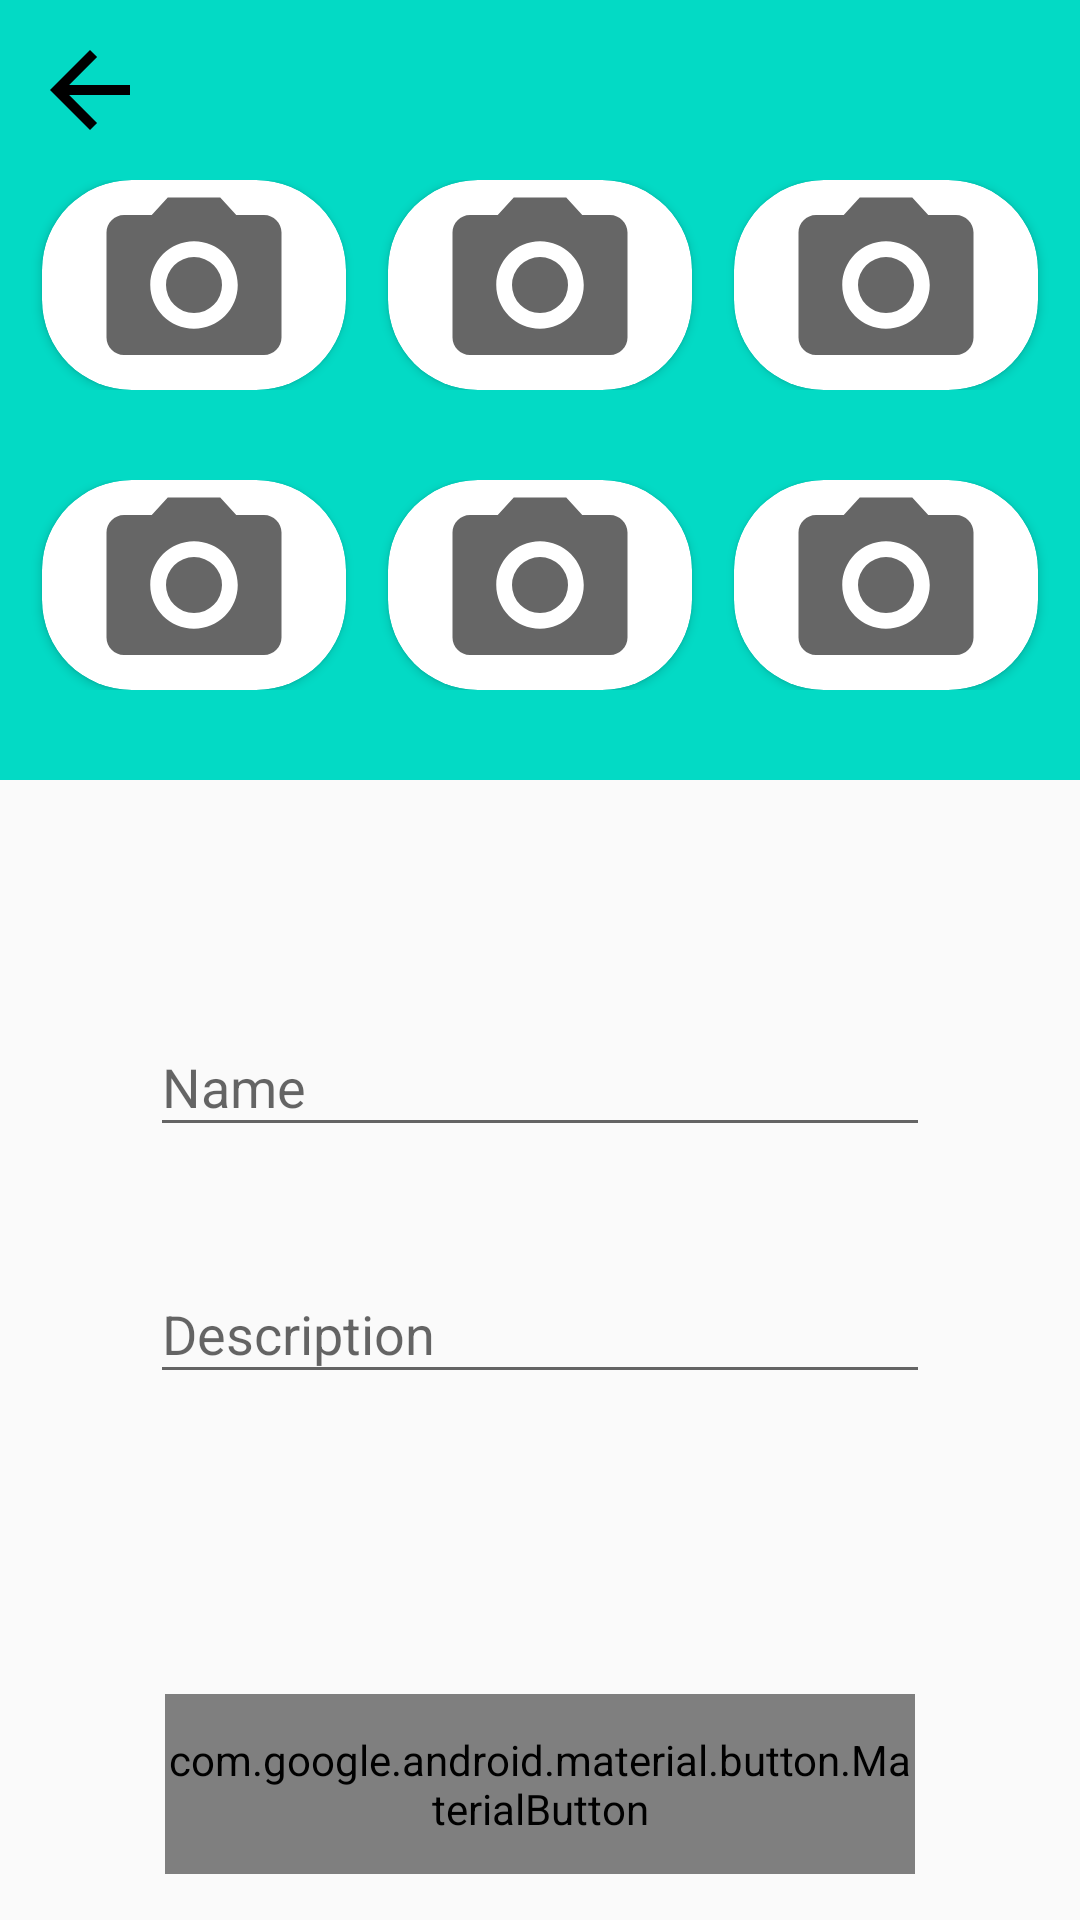

Where to tap for icons on this 1080×1920 app screen, as point (x, y):
Add image: point (194, 285), point (540, 285), point (886, 285), point (194, 585), point (540, 585), point (886, 585)
arrow back: point (90, 90)
